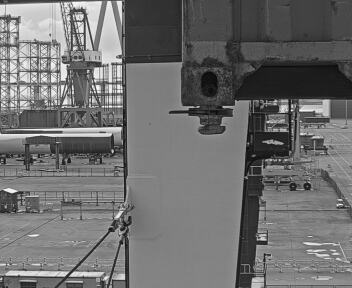twist_lock_1: (175, 167, 225, 201)
